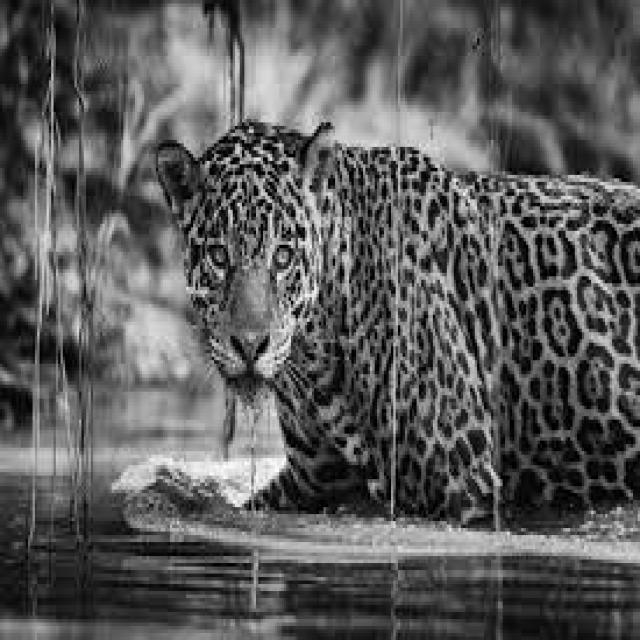Jaguar: (153, 119, 640, 521)
